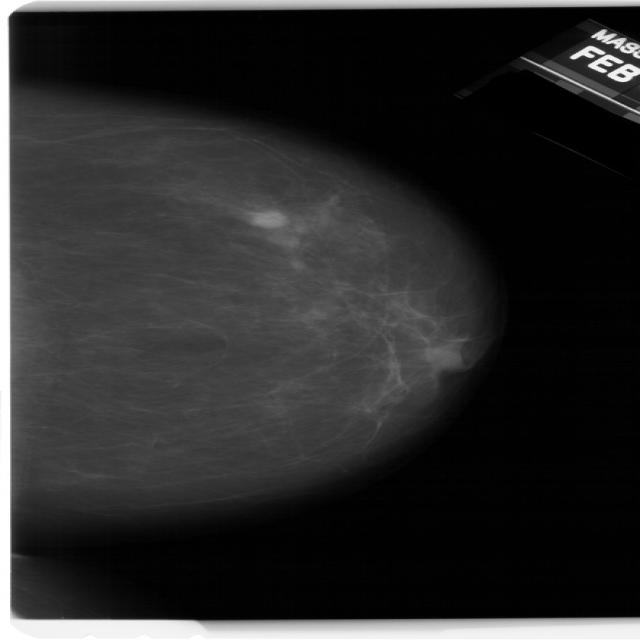tumour: (242, 209, 287, 228)
